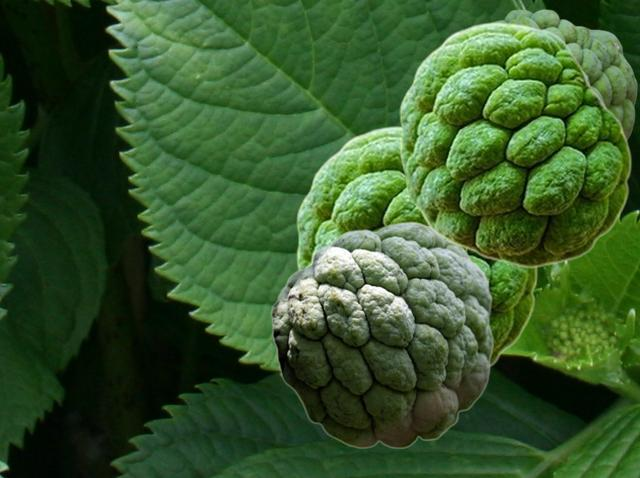atis: (296, 125, 537, 369), (399, 21, 631, 267), (270, 221, 493, 448), (495, 9, 636, 139)
